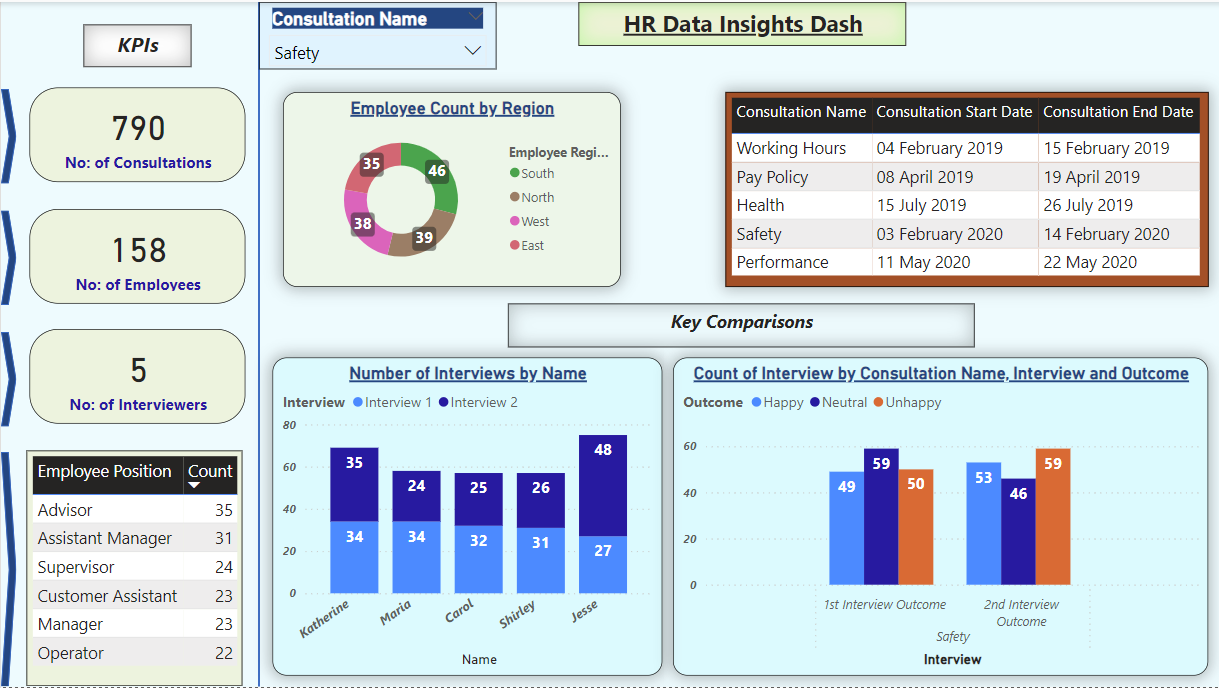

The page's visual inventory and layout, read from the dashboard file:
{"tool":"powerbi","page":{"name":"Page 1","canvas":[1280,720],"ordinal":0},"visuals":[{"type":"shape","box":[264.6,0,12.6,719.8],"z":0},{"type":"card","fields":{"Values":["Count(HRSYST.EmployeeID)"]},"box":[30,217,226.8,99.2],"z":1000},{"type":"donutChart","title":"Employee Count by Region","fields":{"Category":["HRSYST.Employee Region"],"Y":["Count(HRSYST.EmployeeID)"]},"box":[296.1,94.5,354.4,204.8],"z":2000},{"type":"shape","box":[0,91.1,16.2,99.2],"z":3000},{"type":"card","fields":{"Values":["CountNonNull(HRSYST.EmployeeID)"]},"box":[30,89.8,226.8,99.2],"z":4000},{"type":"tableEx","fields":{"Values":["HRSYST.Employee Position","Count(HRSYST.EmployeeID)"]},"box":[26.9,471.2,226.8,247.3],"z":5000},{"type":"shape","box":[0,471.9,16.2,247.1],"z":6000},{"type":"textbox","box":[605.7,0,344.3,45.7],"z":8000},{"type":"slicer","fields":{"Values":["HRSYST.Consultation Name"]},"box":[271.4,0,249.1,70.9],"z":9000},{"type":"columnChart","title":"Number of Interviews by Name","fields":{"Category":["Unique.Name"],"Y":["HRSYST.Count_Column1","HRSYST.Count_Column2"]},"box":[285.1,373.3,409.5,333.9],"z":10000},{"type":"tableEx","fields":{"Values":["HRSYST.Consultation Name","HRSYST.Consultation Start Date","HRSYST.Consultation End Date"]},"box":[760.8,94.5,507.2,204.8],"z":11000},{"type":"card","fields":{"Values":["Count(HRSYST.1st Interviewer ID)"]},"box":[30,344.1,226.8,99.2],"z":13000},{"type":"textbox","box":[87.1,24.3,113.4,44.6],"z":14000},{"type":"textbox","box":[532.4,316.6,489.9,45.7],"z":15000},{"type":"clusteredColumnChart","fields":{"Category":["HRSYST (2).Consultation Name","HRSYST (2).Interview "],"Series":["HRSYST (2).Outcome"],"Y":["CountNonNull(HRSYST (2).Interview )"]},"box":[705.6,373.3,562.3,333.9],"z":16000},{"type":"shape","box":[0,218.7,16.2,99.2],"z":16001},{"type":"shape","box":[0,346.3,16.2,99.2],"z":16002}]}

Visuals, with their boxes in screenshot pixels (x1, y1, x2, y2), scaled from the page's 1280x720 canvas onto the 1219x688 screenshot:
shape: bbox=[252, 0, 264, 687]
card - Count(HRSYST.EmployeeID): bbox=[29, 207, 245, 302]
"Employee Count by Region" donutChart: bbox=[282, 90, 619, 286]
shape: bbox=[0, 87, 15, 182]
card - CountNonNull(HRSYST.EmployeeID): bbox=[29, 86, 245, 181]
tableEx - HRSYST.Employee Position x Count(HRSYST.EmployeeID): bbox=[26, 450, 242, 687]
shape: bbox=[0, 451, 15, 687]
textbox: bbox=[577, 0, 905, 44]
slicer - HRSYST.Consultation Name: bbox=[258, 0, 496, 68]
"Number of Interviews by Name" columnChart: bbox=[272, 357, 661, 676]
tableEx - HRSYST.Consultation Name x HRSYST.Consultation Start Date: bbox=[725, 90, 1208, 286]
card - Count(HRSYST.1st Interviewer ID): bbox=[29, 329, 245, 424]
textbox: bbox=[83, 23, 191, 66]
textbox: bbox=[507, 303, 974, 346]
clusteredColumnChart - HRSYST (2).Consultation Name x HRSYST (2).Interview : bbox=[672, 357, 1207, 676]
shape: bbox=[0, 209, 15, 304]
shape: bbox=[0, 331, 15, 426]
